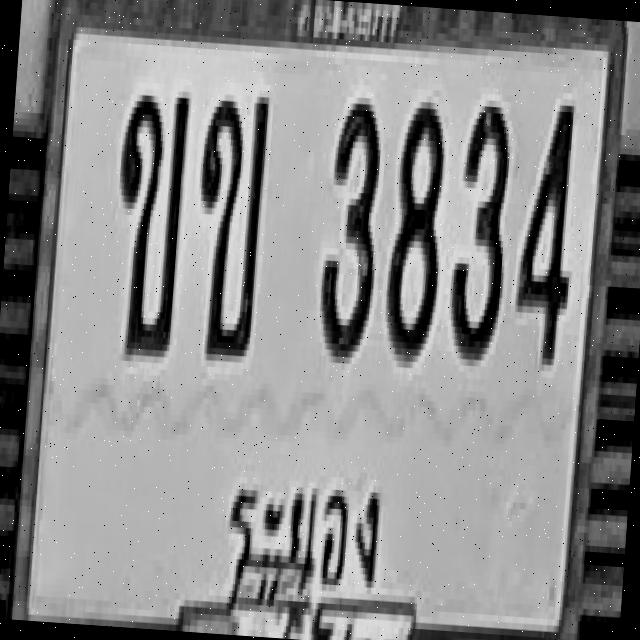11KhorKhai: (106, 84, 190, 354), (187, 86, 269, 356)
3: (315, 95, 385, 358), (447, 95, 514, 358)
4: (512, 94, 580, 362)
8: (382, 94, 450, 356)
Rayong: (214, 450, 400, 622)
